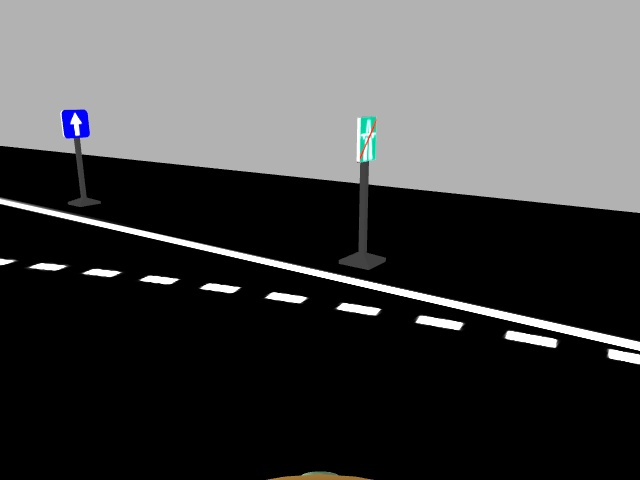HighwayExit: (351, 114, 377, 163)
OneWay: (57, 109, 92, 139)
